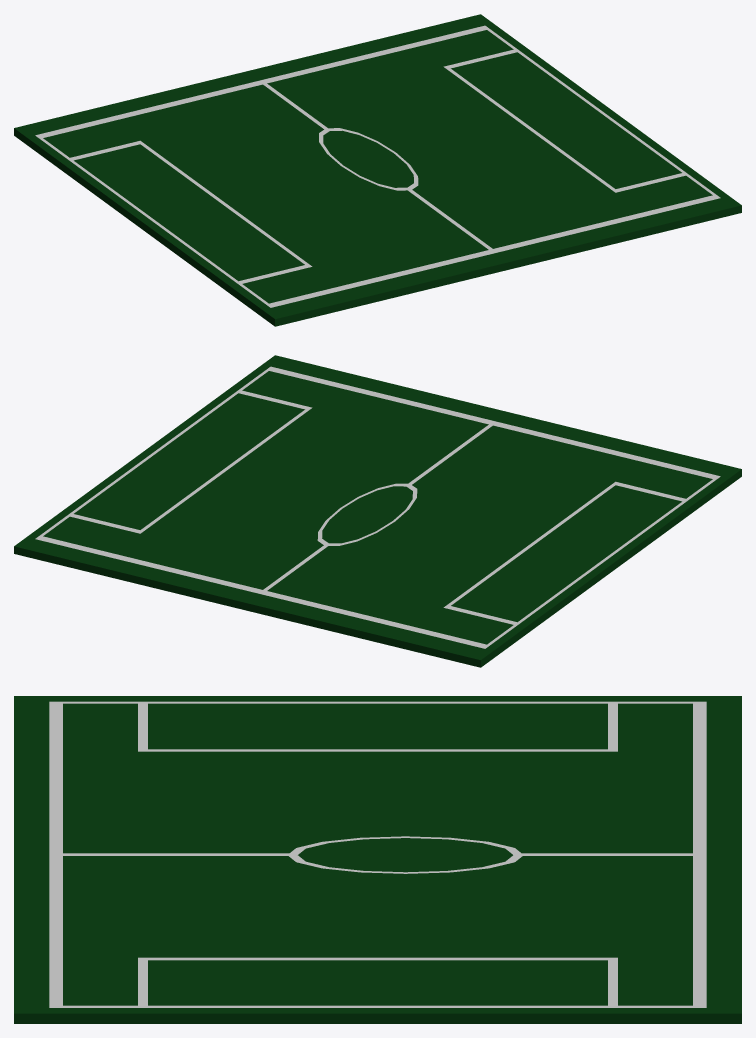
File: football_field.obj
3 renders of one model, top to bottom at view 1: azimuth 30°, elevation 25°; view 2: azimuth 150°, elevation 25°; view 3: azimuth 270°, elevation 25°, orthographic. The views are drawn at different scales.
Parts seen in each view (by area): view 1: soccer_field.001; view 2: soccer_field.001; view 3: soccer_field.001.
Part boxes in pixels (x1,y1,x2,y2): soccer_field.001: [14, 14, 741, 326]; soccer_field.001: [14, 355, 741, 667]; soccer_field.001: [14, 696, 741, 1023].
Bounding box in the file's own units: 3.85 × 0.0592 × 3.73.
